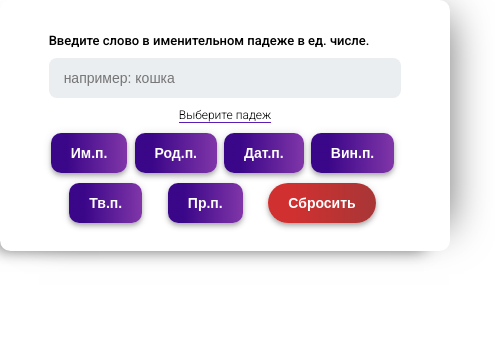
Scenario: Form › should show handled word
Type "кошка" into the field at (225, 78), box [49,58,401,98]
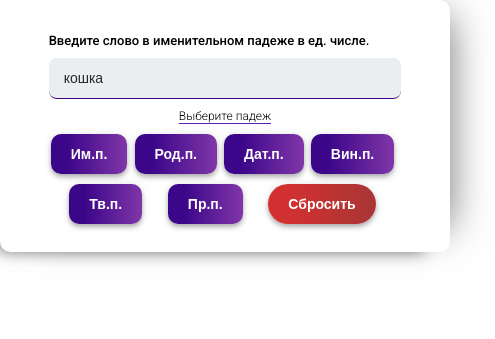
Click the button "Тв.п." at (106, 204), box [69,184,142,224]
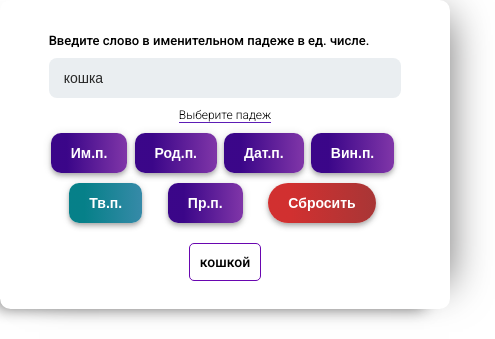
Expected: the text "кошкой" is shown, [200,254,250,270]
